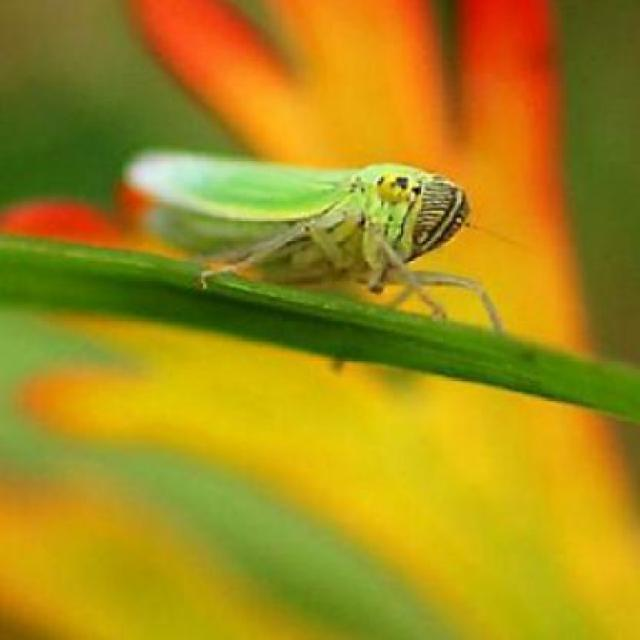green-leafhopper: (122, 157, 476, 320)
